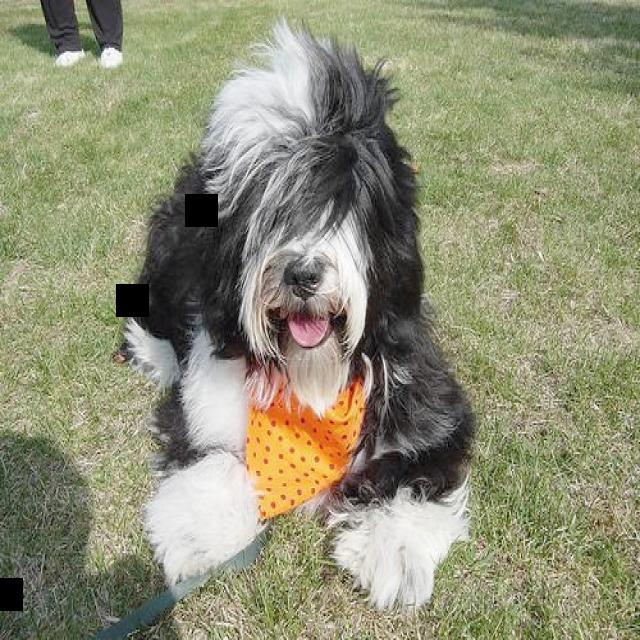adult_dog: (117, 16, 479, 616)
